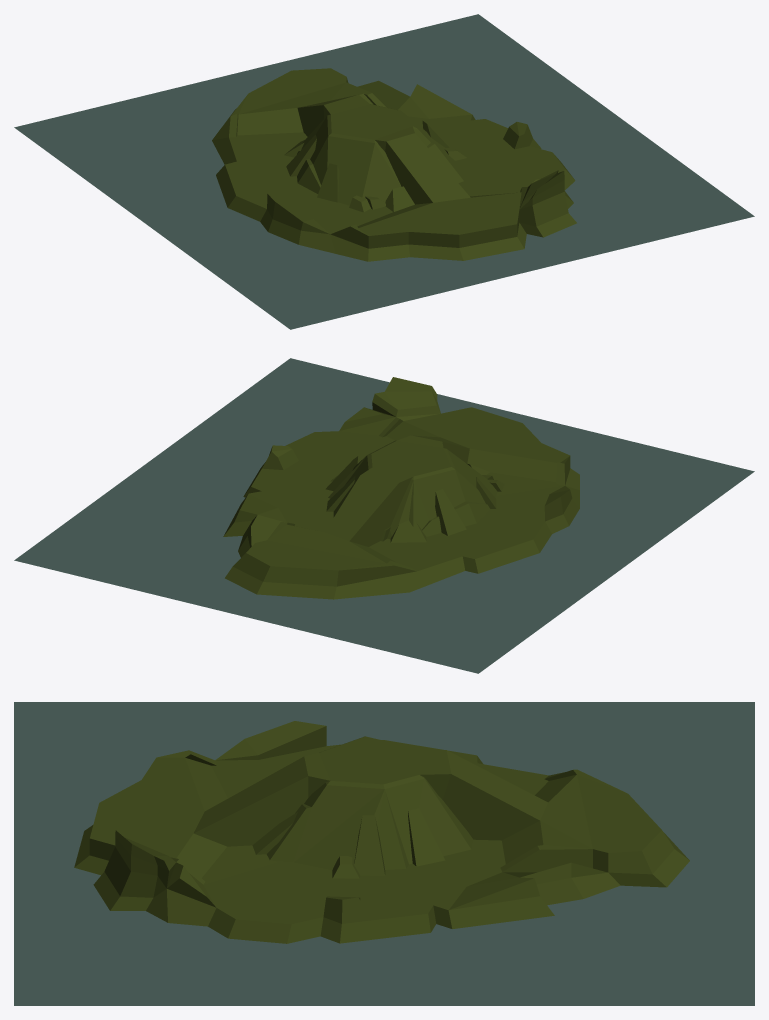
File: Island.fbx
3 views of the same model, one above another, from view 1: azimuth 30°, elevation 25°; view 2: azimuth 150°, elevation 25°; view 3: azimuth 270°, elevation 25° (orthographic). The views are drawn at different scales.
Visible parts, largest first — view 1: Sea1, Island2; view 2: Sea1, Island2; view 3: Sea1, Island2.
Part boxes in pixels (box(x1,y1,x2,y2)): Sea1: box(14, 14, 754, 329); Island2: box(212, 68, 576, 261); Sea1: box(14, 358, 754, 673); Island2: box(223, 377, 579, 599); Sea1: box(14, 702, 754, 1005); Island2: box(74, 721, 689, 943).
Bounding box in the file's own units: 370 × 45.07 × 381.
